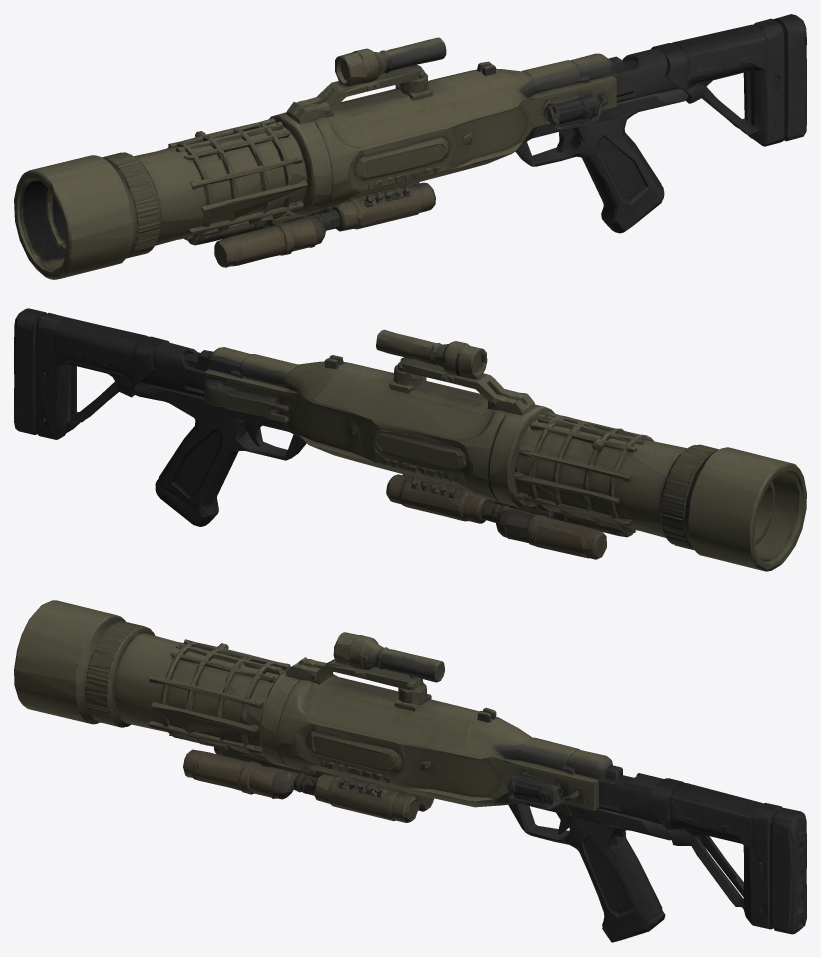
File: grenade_launcher.glb
3 views of the same model, one above another, from view 1: azimuth 30°, elevation 25°; view 2: azimuth 150°, elevation 25°; view 3: azimuth 330°, elevation 25° (orthographic).
Visible parts, largest first — view 1: mesh_node; view 2: mesh_node; view 3: mesh_node.
Part boxes in pixels (x1,y1,x2,y2): mesh_node: [14, 14, 806, 279]; mesh_node: [14, 308, 806, 571]; mesh_node: [14, 600, 806, 942].
Bounding box in the file's own units: 1.9 × 0.5793 × 0.2473.
Materials: 1 (1 with a texture image).
